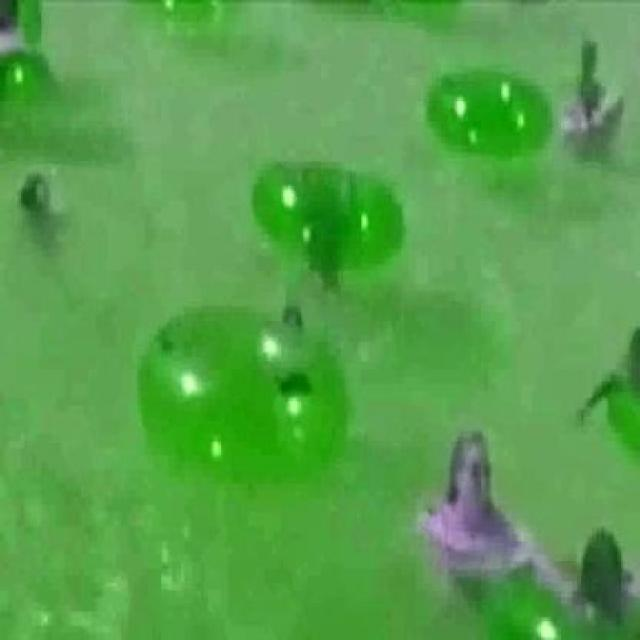drowning: (426, 438, 522, 572), (564, 73, 621, 159), (20, 169, 65, 243)
